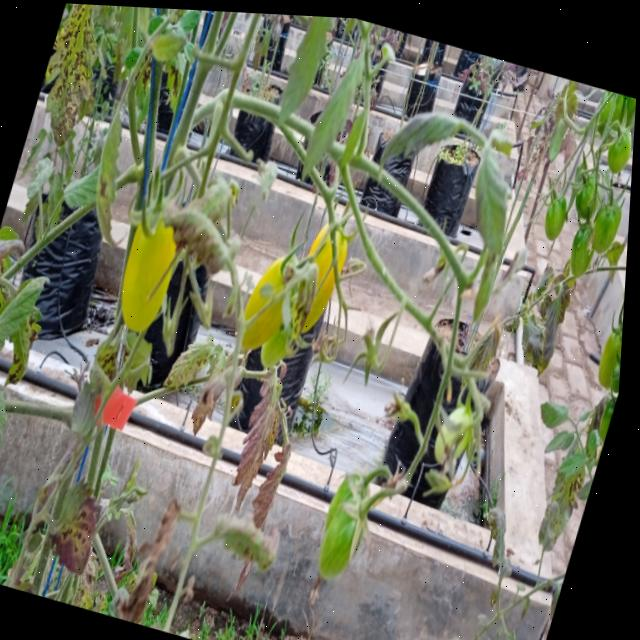fine: (106, 185, 210, 358), (106, 187, 209, 360), (108, 183, 211, 354), (289, 206, 358, 337), (235, 232, 301, 359)
unripe: (106, 185, 209, 358), (307, 469, 385, 594), (261, 314, 299, 368)
